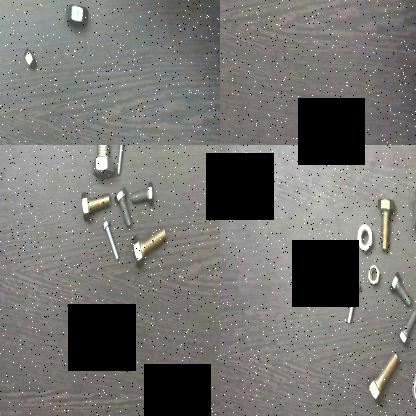Bolts: (128, 221, 166, 270), (366, 351, 398, 405), (375, 194, 398, 254), (80, 186, 112, 221), (387, 264, 411, 309), (99, 214, 119, 264), (90, 145, 115, 180), (114, 184, 132, 232), (130, 177, 156, 209), (396, 309, 416, 347), (114, 145, 128, 176), (406, 186, 416, 226)
NUTS: (61, 0, 89, 31), (354, 222, 374, 254), (366, 262, 380, 290), (409, 367, 416, 408)
